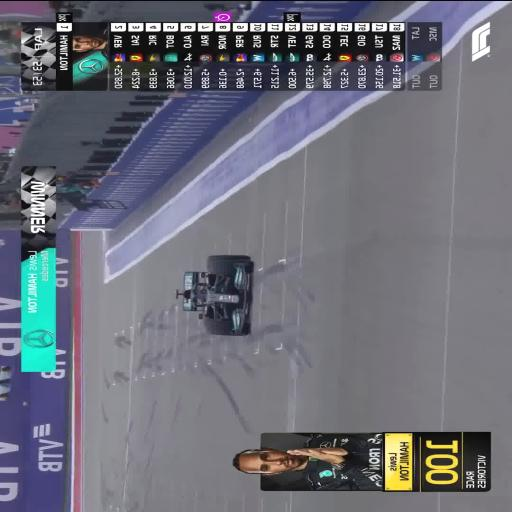f1_car: (176, 254, 253, 335)
